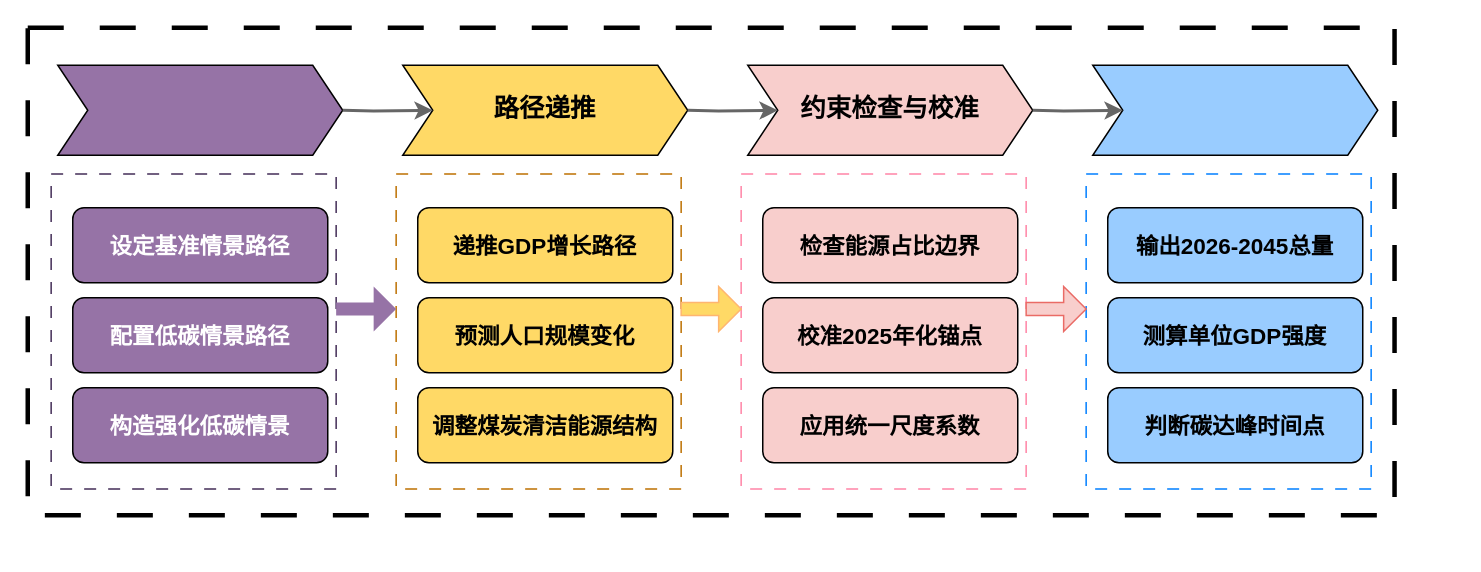
The diagram is 1481 pixels wide and 572 high, and some of its shapes have lost their labels. The centre of each missing label's shape, as x and y in pixels:
情景设定: point 199,109
预测输出与达峰判断: point 1234,109
